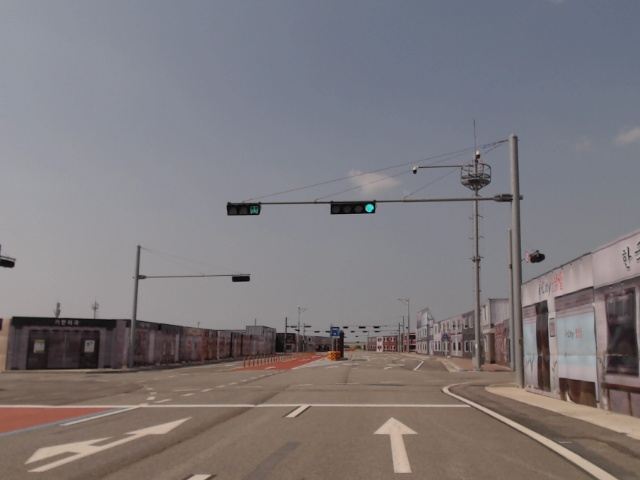straight_green_4: (331, 202, 377, 213)
